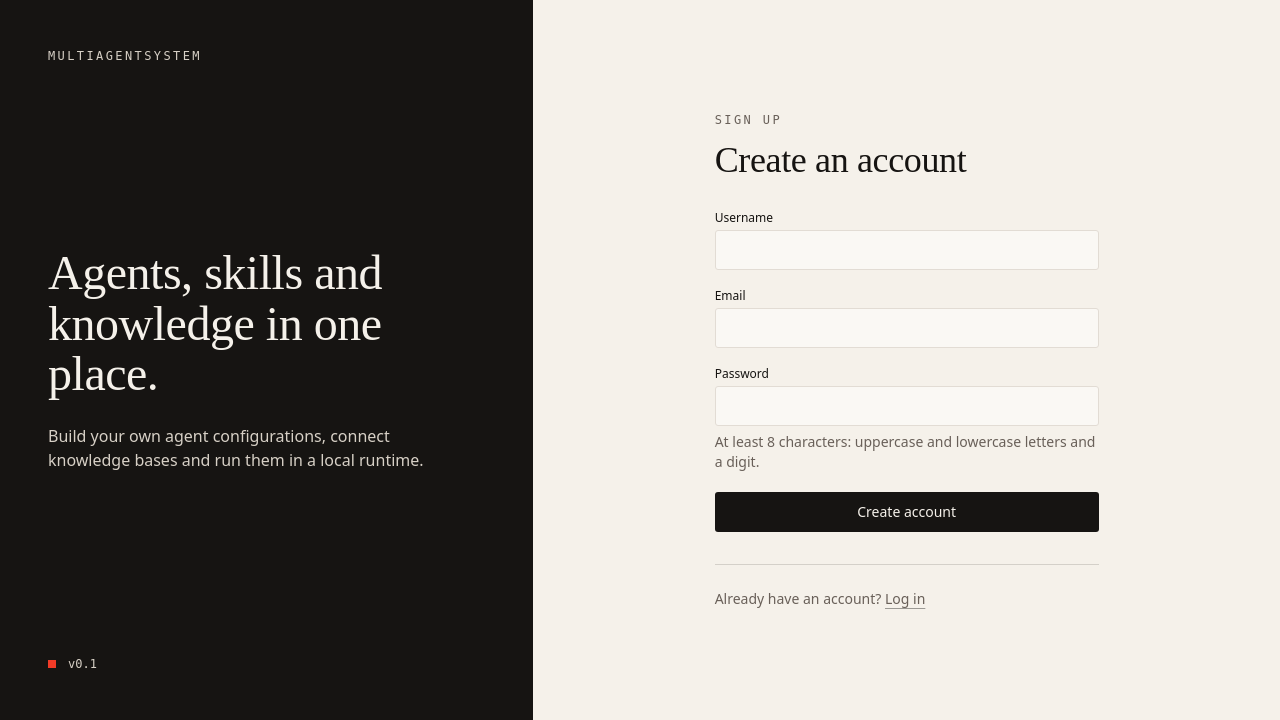
Test case: signup page › asks the user to check their email after success
In the field labelled "Username": (907, 250) [715, 230, 1099, 270], type "alice"
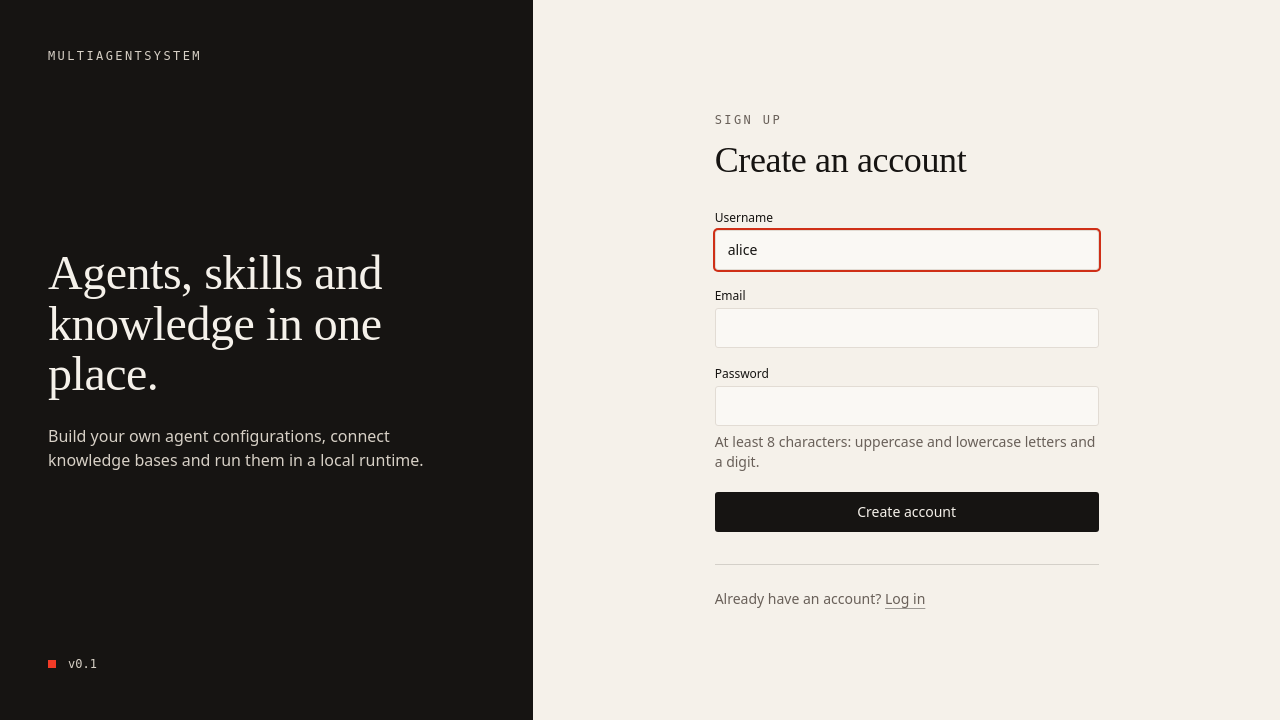
In the field labelled "Email": (907, 328) [715, 308, 1099, 348], type "alice@example.com"
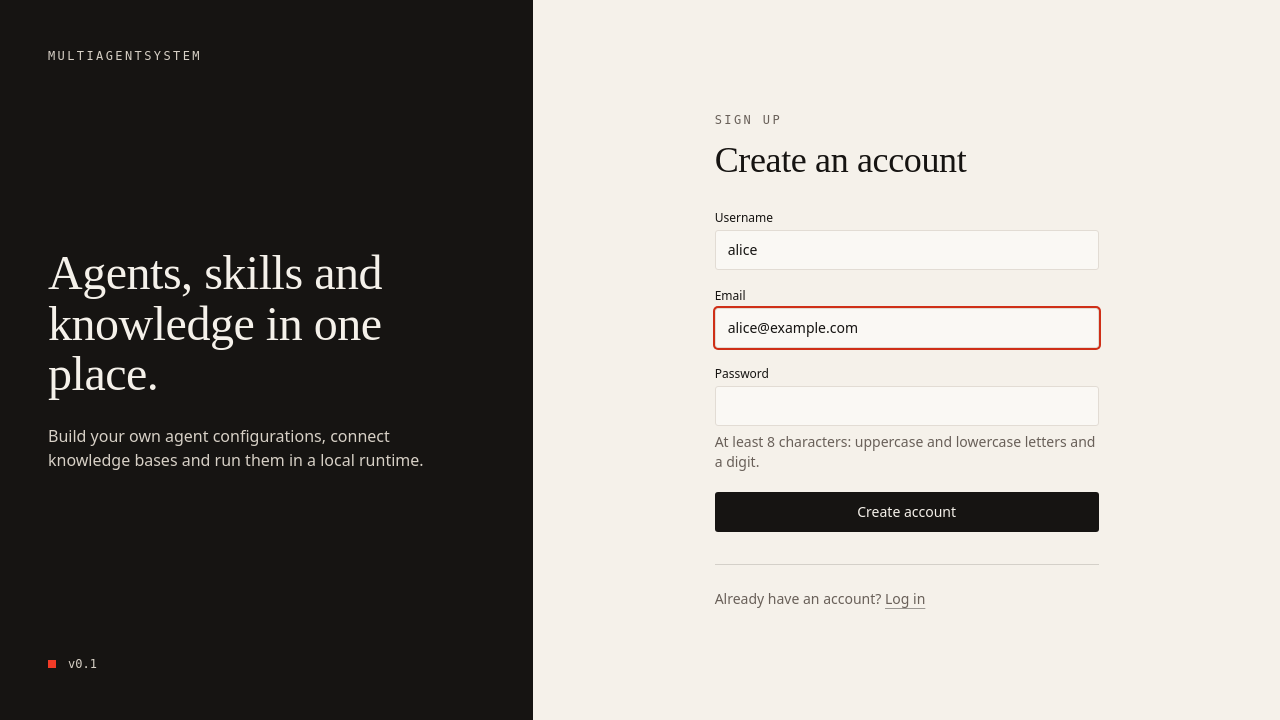
In the password field labelled "Password": (907, 406) [715, 386, 1099, 426], type "Passw0rdAA"
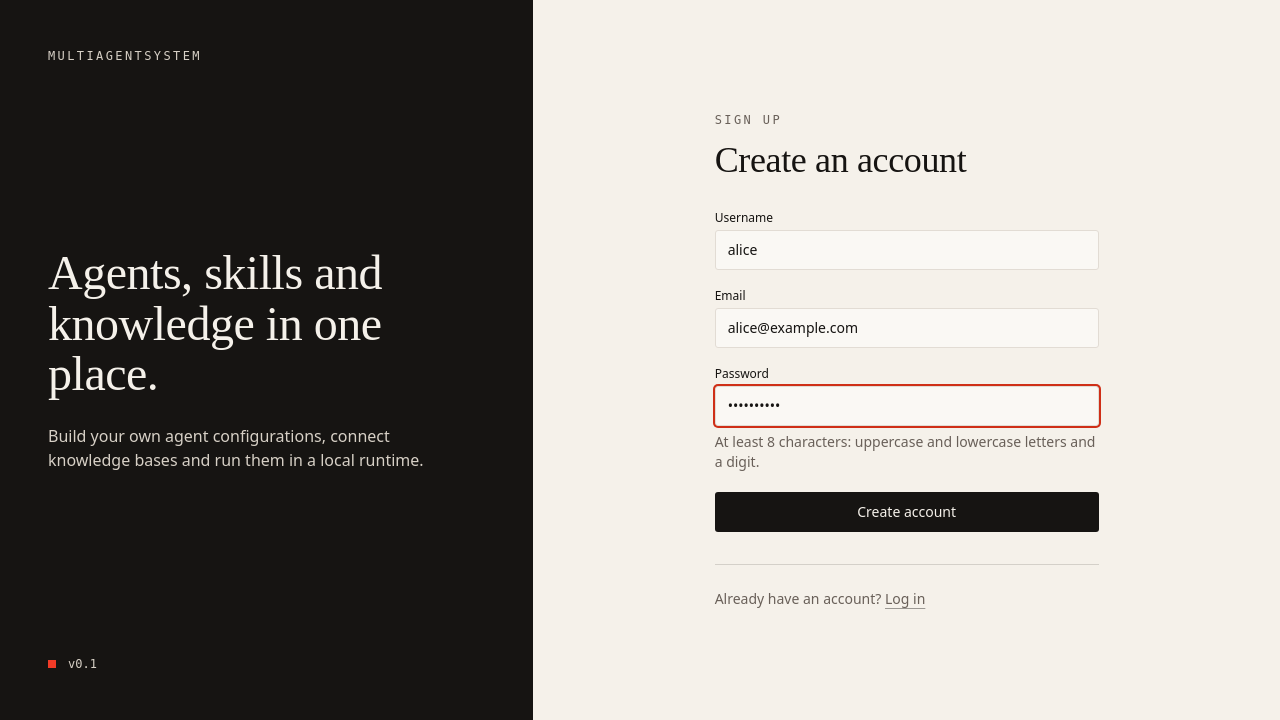
Click the button "Create account": (907, 512) [715, 492, 1099, 532]
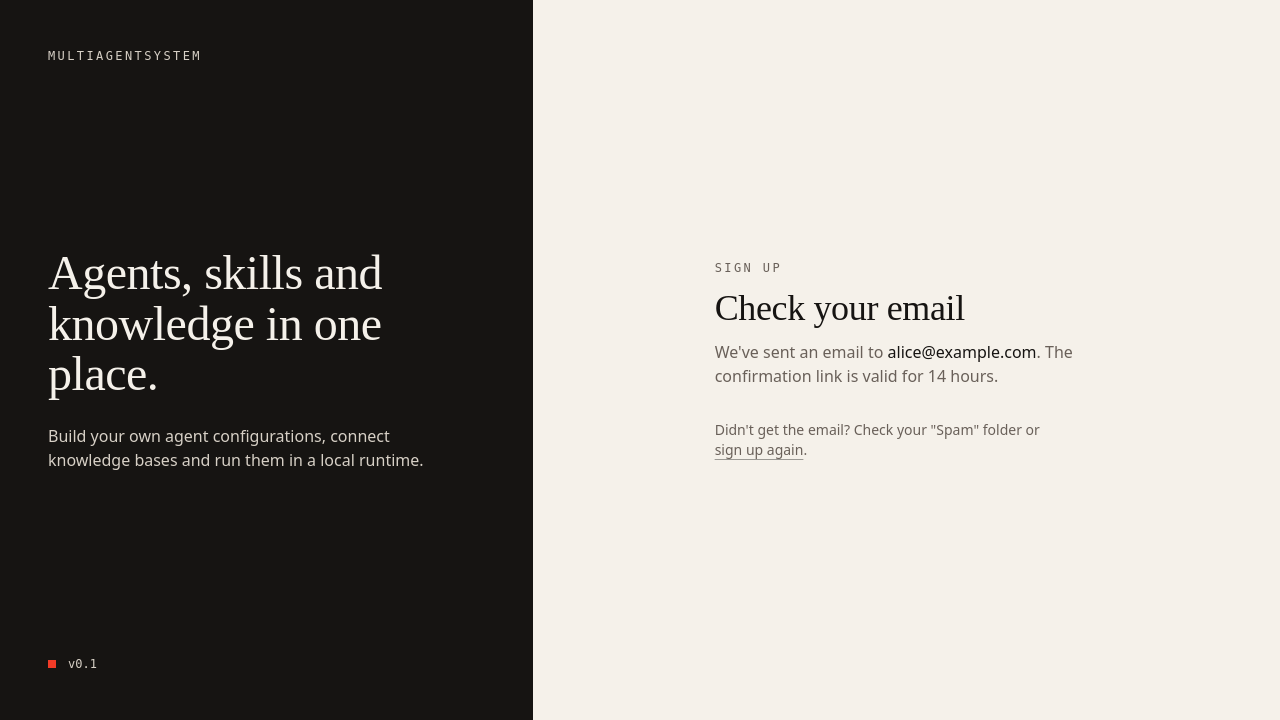
Expected: the heading "Check your email" is shown, [715, 288, 965, 328]
Expected: the text "alice@example.com" is shown, [888, 341, 1036, 363]
